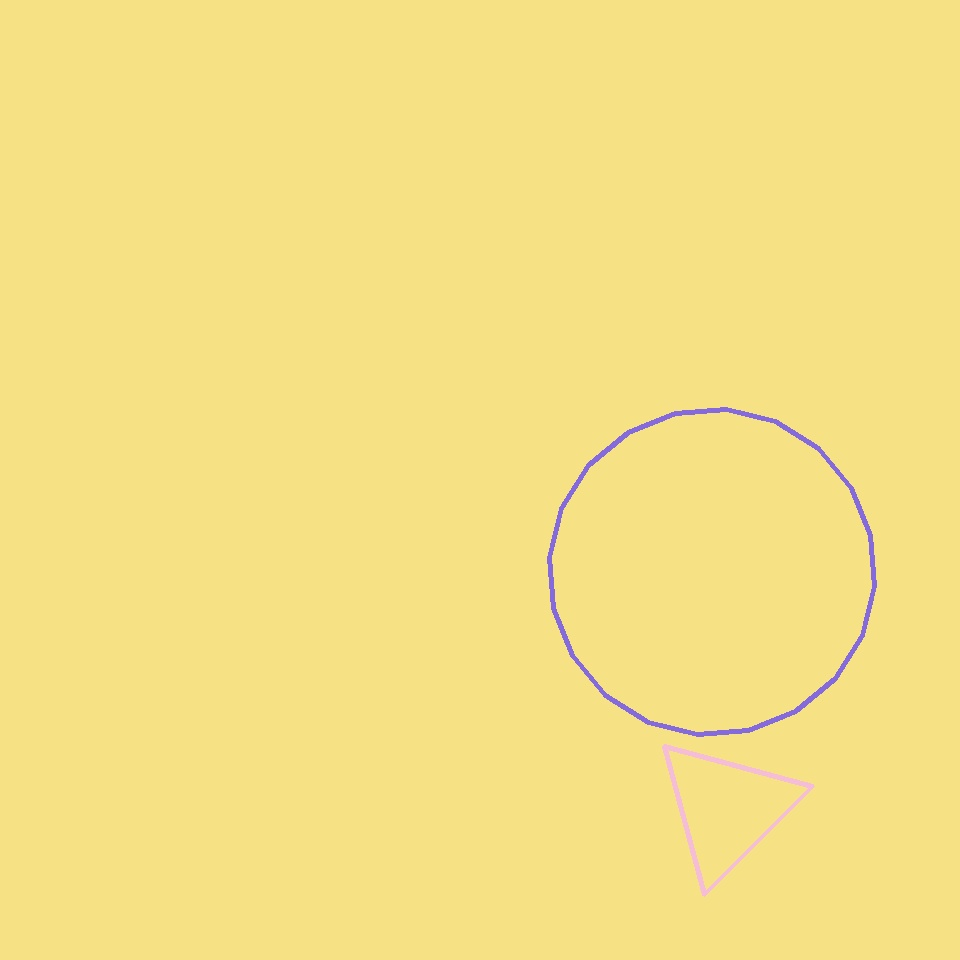circle: (653, 735, 801, 883)
triangle: (550, 409, 875, 734)
